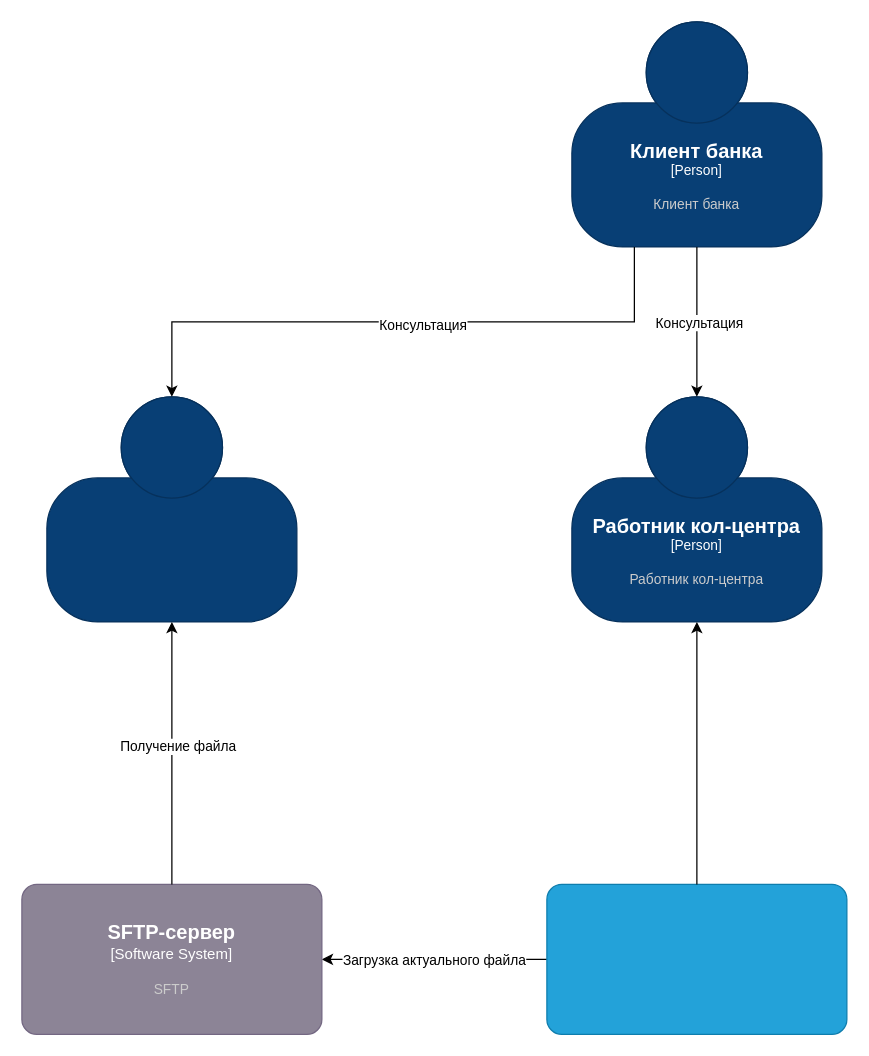
The diagram is 869 pixels wide and 1056 high, and some of its shapes have lost their labels. The shapes that lost their labels are listed below. From the top down, each one's box as (x1, y1, x2, y2) in pixels, then its label:
(46, 396, 297, 622): Работник партнерского кол-центра [Person] Работник партнерского кол-центра
(546, 883, 847, 1034): АБС [Container: Software] АБС
